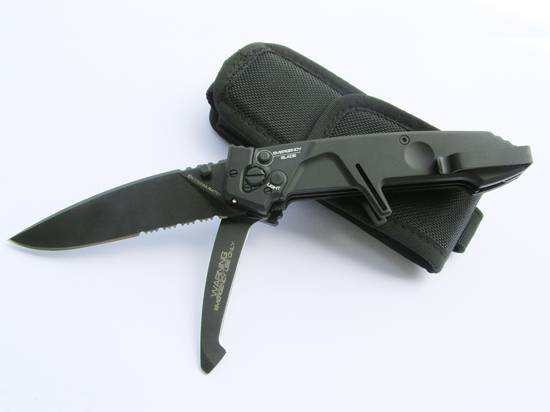knife: (4, 143, 238, 258)
